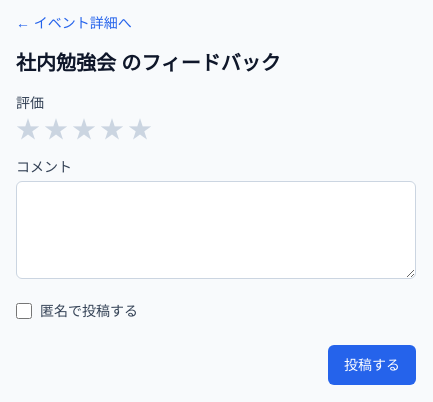
Test: FeedbackPage › 投稿条件未充足（403）の場合、フォームの代わりに理由メッセージと戻り導線のみが表示されること
Click the radio button named "3".
click(84, 129)  # box [72, 117, 96, 141]
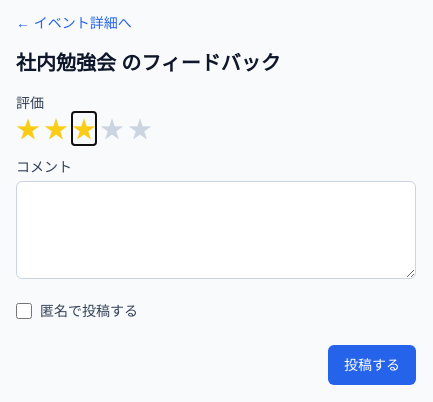
Type "良かったです" into the text box labelled "コメント".
click(216, 230); type("良かったです")  # box [16, 181, 416, 279]
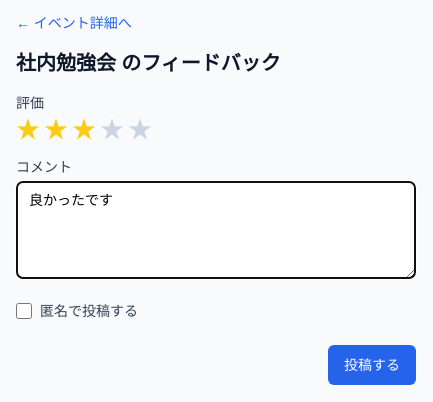
Click the button "投稿する".
click(372, 365)  # box [328, 345, 416, 385]
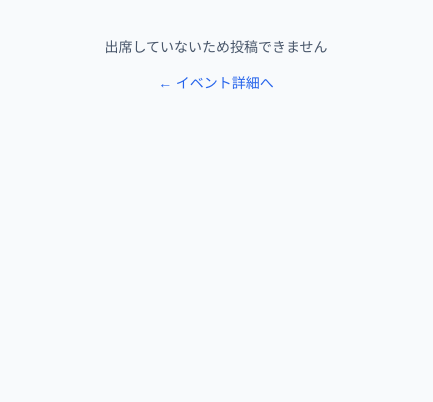
Check: the link "← イベント詳細へ" is shown, box [158, 73, 274, 93]
Check: the text "出席していないため投稿できません" is shown, box [104, 37, 328, 57]
Check: the label labelled "コメント" is gone
